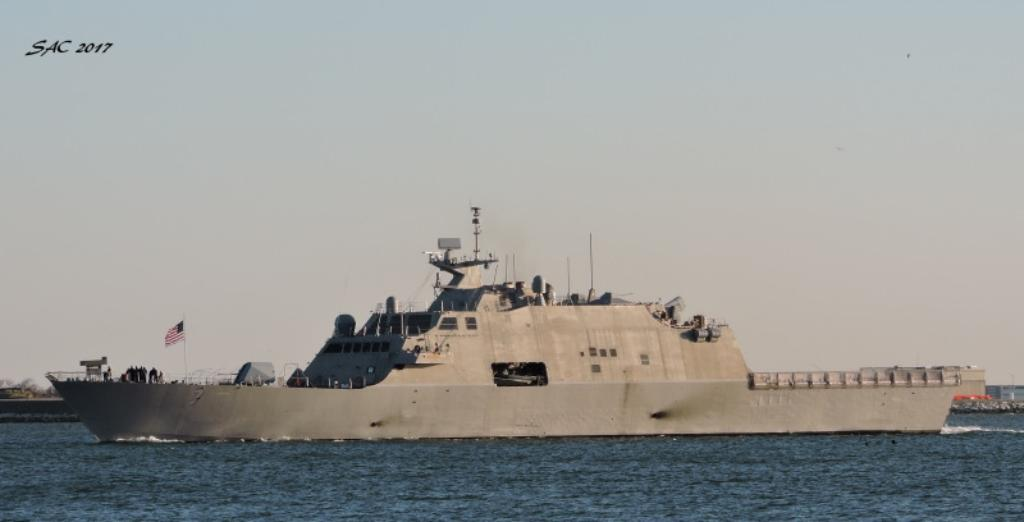Warship: (42, 200, 966, 444)
